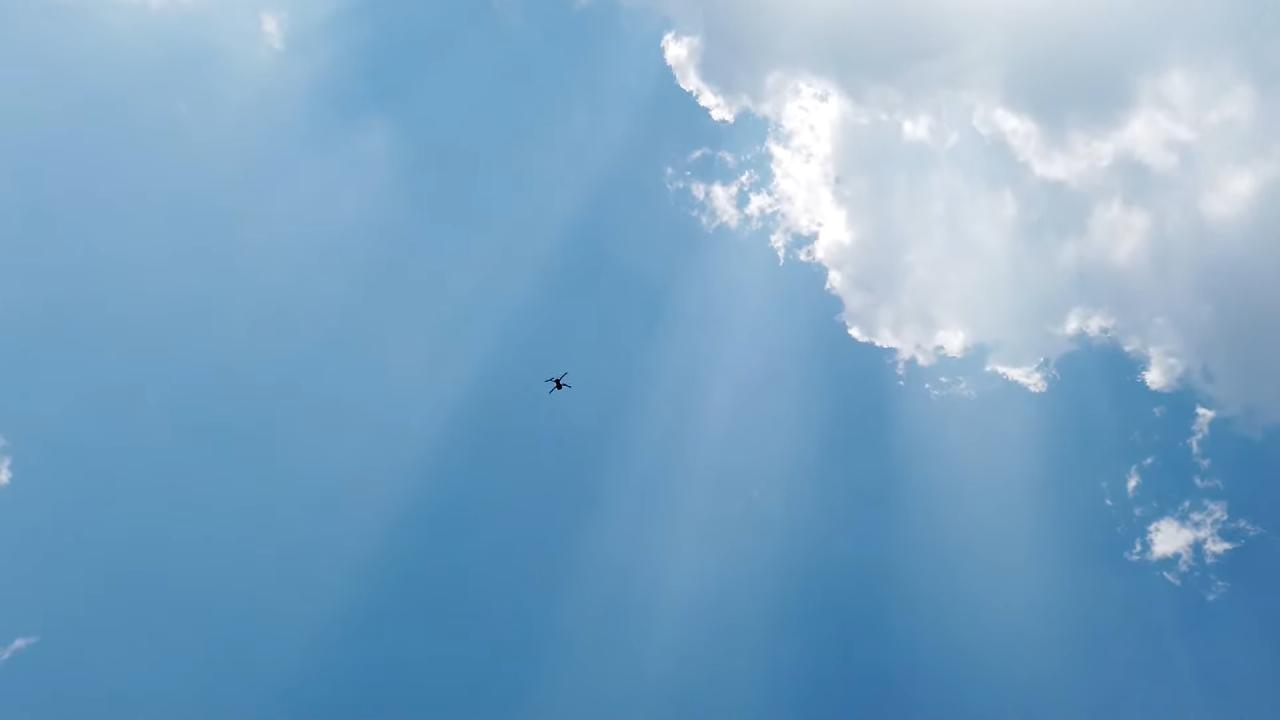Drone: (537, 366, 580, 402)
